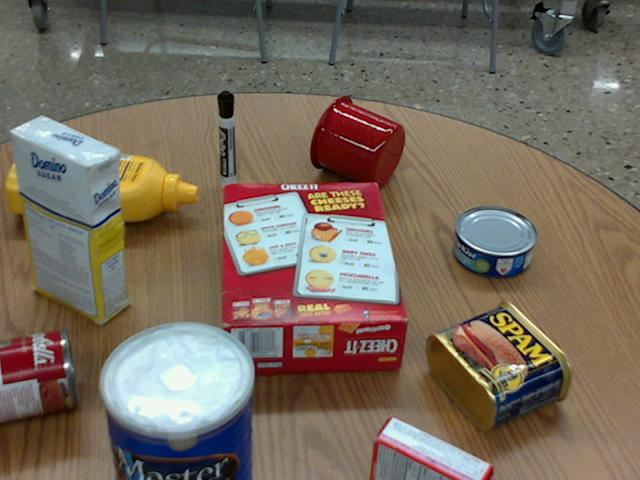cracker_box: (221, 182, 407, 371)
gelatin_box: (369, 415, 494, 479)
large_marker: (216, 91, 234, 188)
master_chef_can: (96, 322, 249, 479)
mug: (309, 95, 404, 188)
mustard_bottle: (6, 147, 196, 221)
potted_meat_can: (427, 300, 572, 430)
sugar_box: (10, 116, 125, 324)
tomato_soup_can: (0, 327, 77, 420)
tuna_fish_can: (453, 205, 537, 277)
